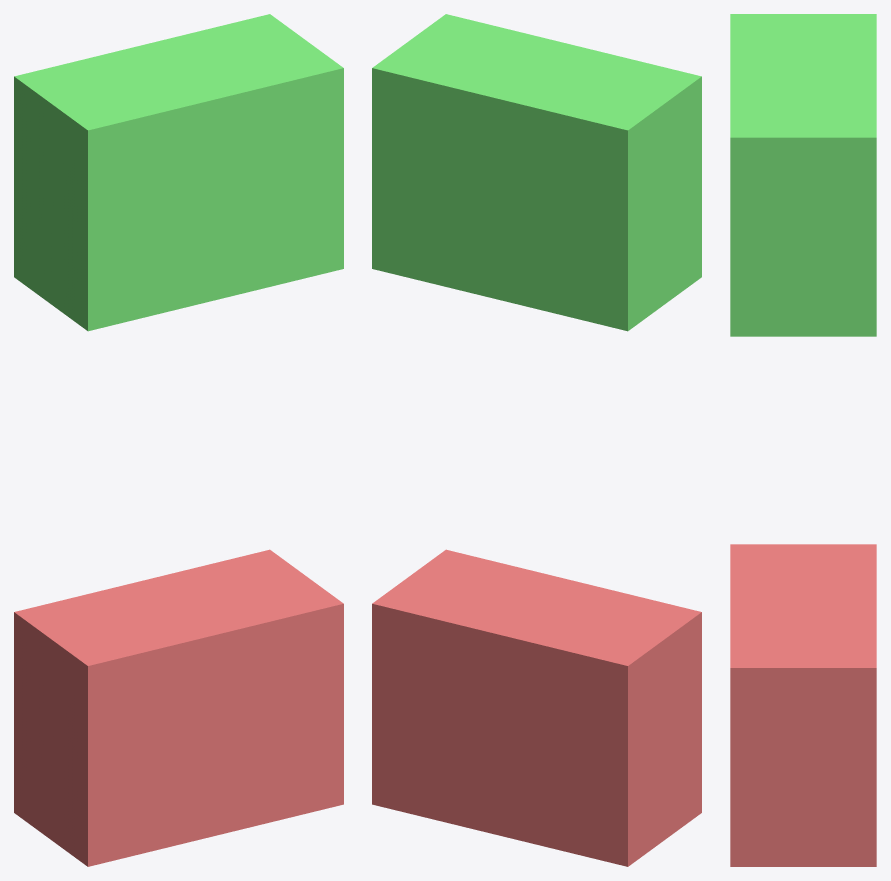
The model's file is two_rgba_boxes.gltf.
3 renders of one model, left to right at view 1: azimuth 30°, elevation 25°; view 2: azimuth 150°, elevation 25°; view 3: azimuth 270°, elevation 25°, orthographic.
Visible parts, largest first — view 1: mesh0, Renderer Node; view 2: mesh0, Renderer Node; view 3: mesh0, Renderer Node.
Boxes of the visible parts, x1=… form: mesh0: x1=14, y1=14, x2=343, y2=331; Renderer Node: x1=14, y1=549, x2=343, y2=866; mesh0: x1=372, y1=14, x2=701, y2=331; Renderer Node: x1=372, y1=549, x2=701, y2=866; mesh0: x1=730, y1=14, x2=876, y2=336; Renderer Node: x1=730, y1=544, x2=876, y2=866.
Size of the model in its own units: 0.1 by 0.275 by 0.05.
